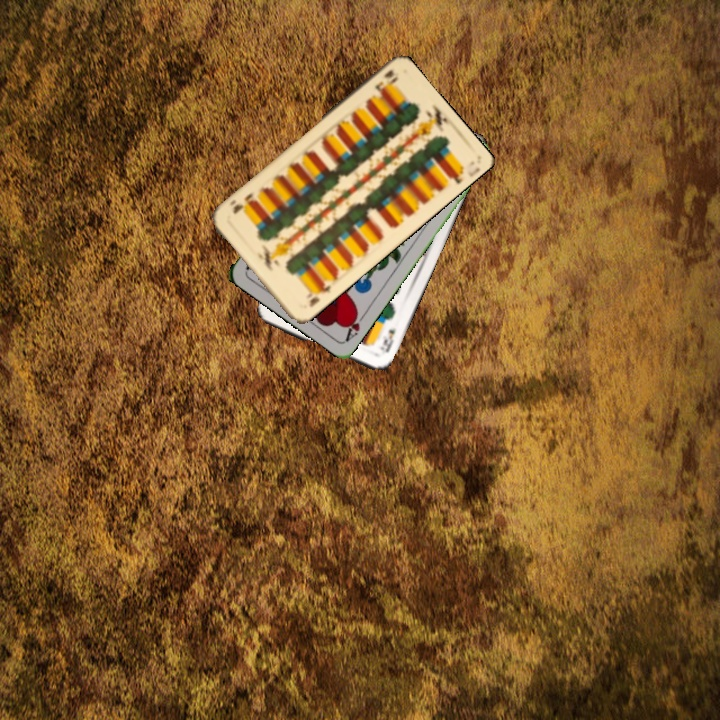E10: (302, 278, 334, 310), (371, 65, 401, 96)
EK: (375, 324, 398, 358)
HA: (341, 305, 369, 344)
